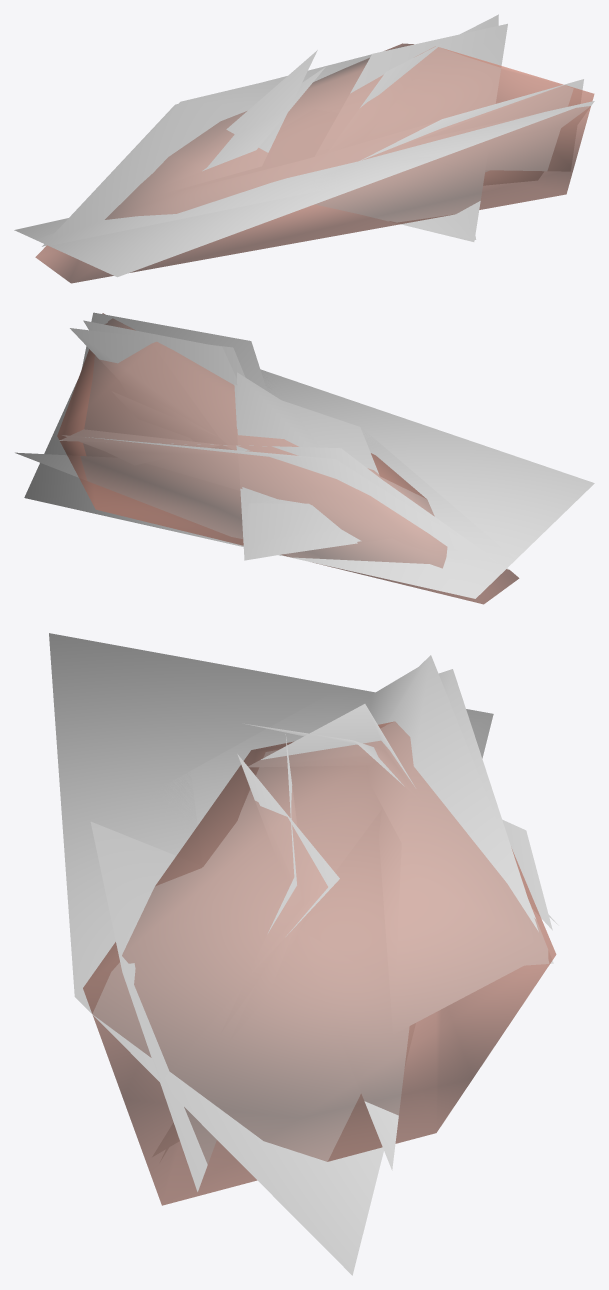
The model's file is tree_beech_dead_a.dae.
3 renders of one model, top to bottom at view 1: azimuth 30°, elevation 25°; view 2: azimuth 150°, elevation 25°; view 3: azimuth 270°, elevation 25°, orthographic. The views are drawn at different scales.
Visible parts, largest first — view 1: Colmesh_dead_a-1, beech_dead_a_a100, beech_dead_a_a200; view 2: beech_dead_a_a100, Colmesh_dead_a-1, beech_dead_a_a200; view 3: Colmesh_dead_a-1, beech_dead_a_a200, beech_dead_a_a100.
Boxes of the visible parts, <box> form: Colmesh_dead_a-1: <box>35,43,594,283</box>; beech_dead_a_a100: <box>14,23,594,277</box>; beech_dead_a_a200: <box>36,14,583,246</box>; beech_dead_a_a100: <box>24,320,594,598</box>; Colmesh_dead_a-1: <box>57,313,519,604</box>; beech_dead_a_a200: <box>15,312,515,574</box>; Colmesh_dead_a-1: <box>83,721,556,1205</box>; beech_dead_a_a200: <box>67,655,553,1191</box>; beech_dead_a_a100: <box>49,633,558,1275</box>.
Size of the model in its own units: 5.51 by 2.46 by 1.94.
